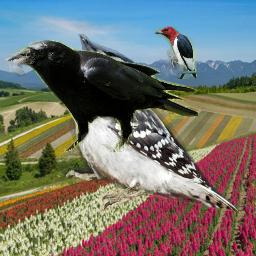Crow: (4, 40, 198, 152)
Woodpecker: (60, 34, 238, 211), (154, 26, 197, 79)
